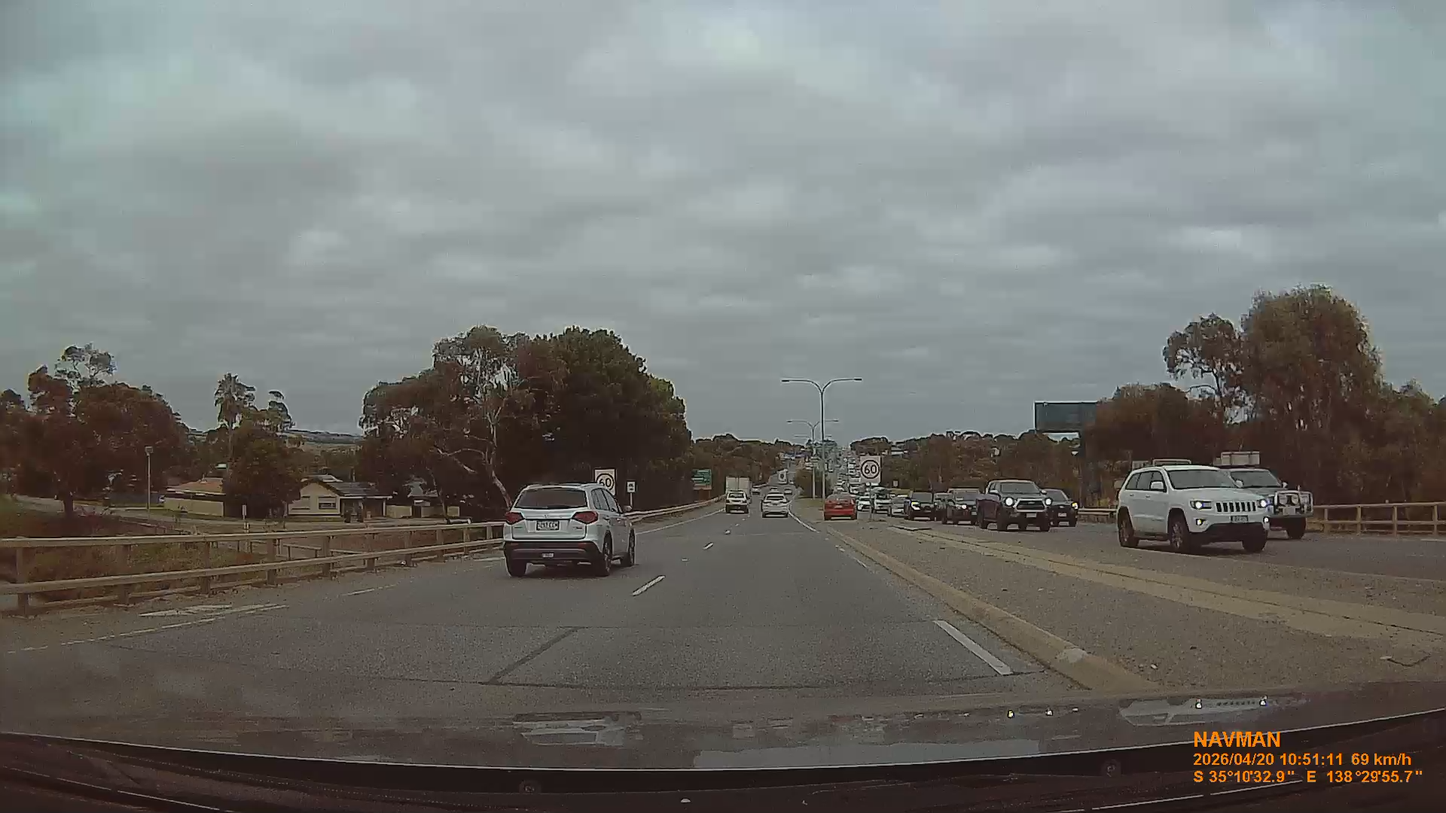road barriers: (0, 522, 502, 615), (1307, 502, 1445, 536)
